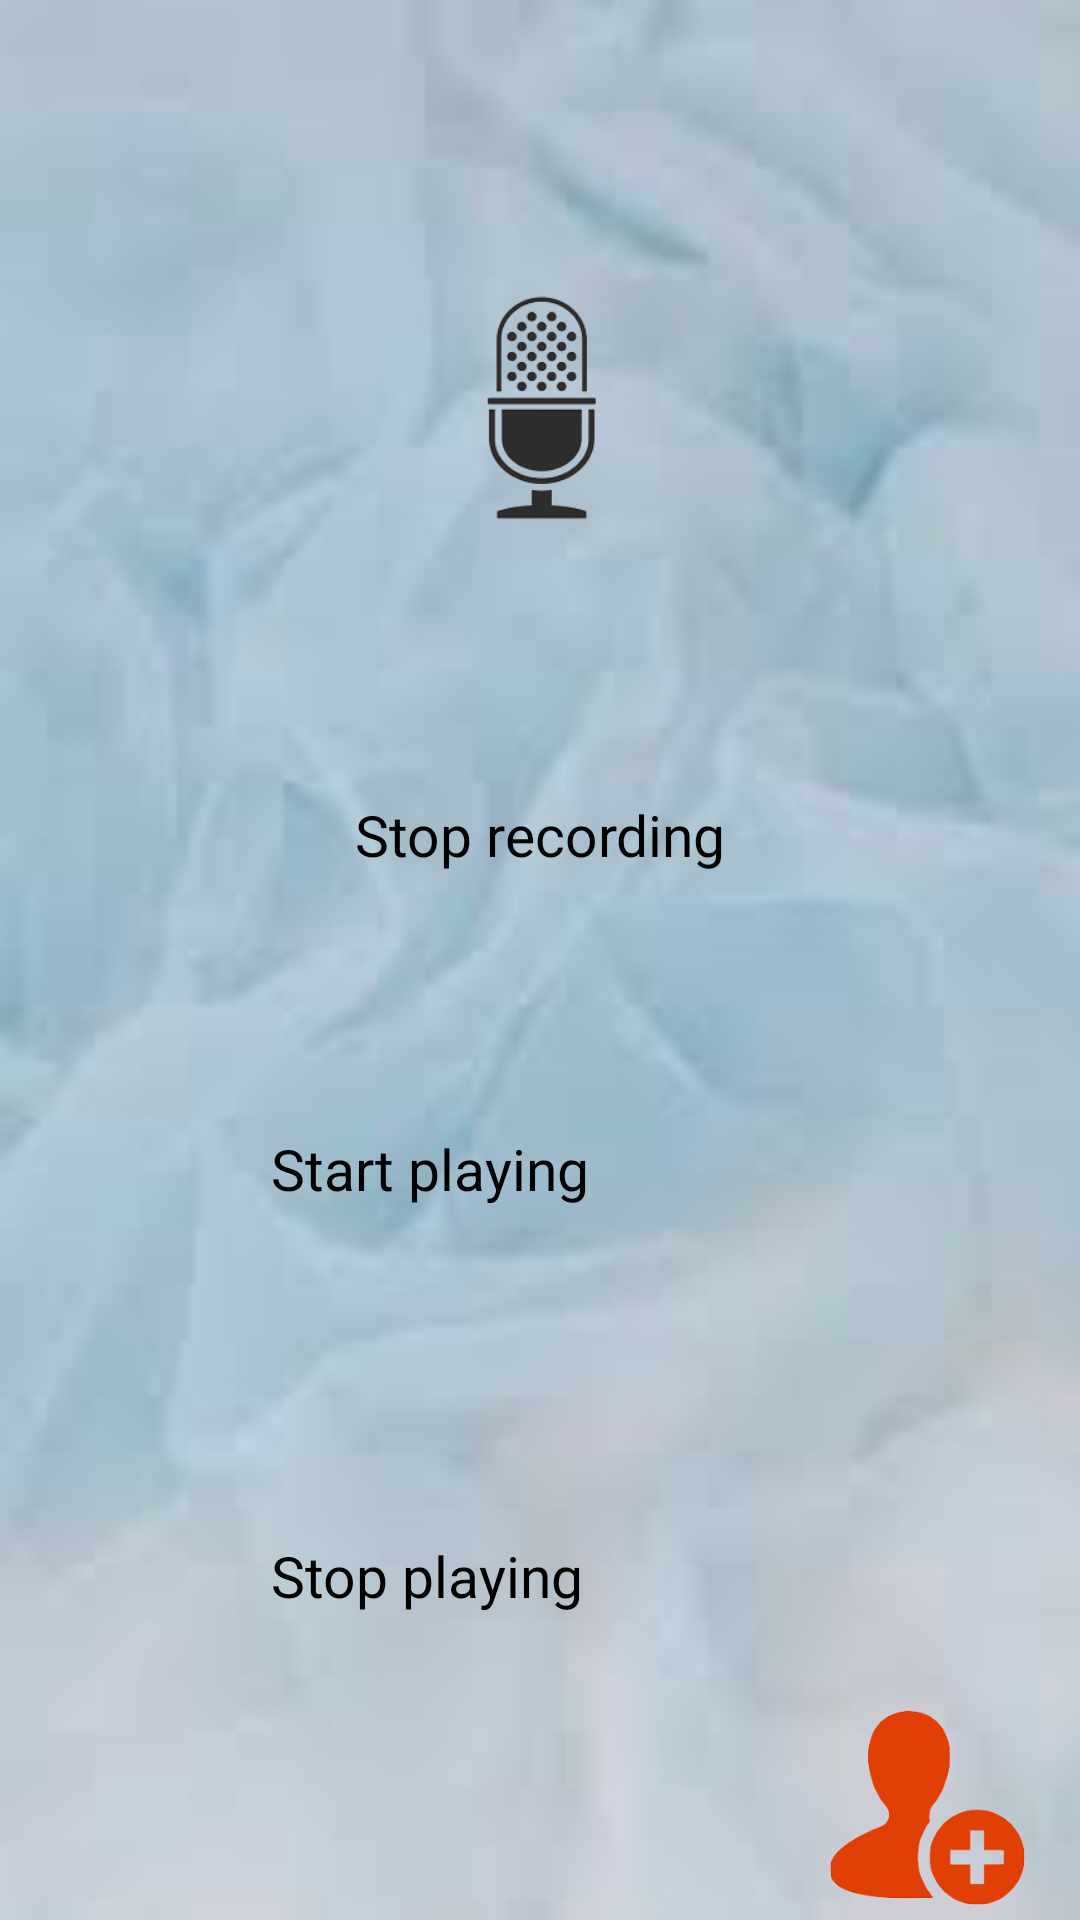

Screen size 1080px x 1920px. Icon name, then its center in pixels as (x,y):
adduser: (927,1808)
microphone: (615,407)
